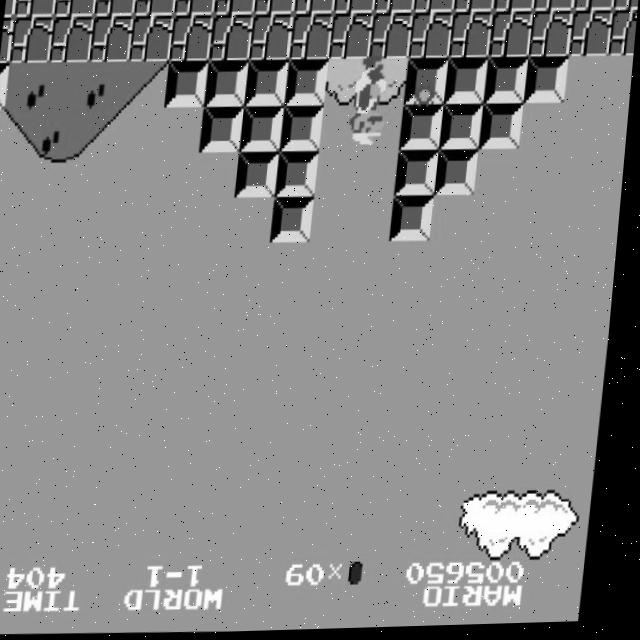17- undestructible_block: (568, 13, 614, 61), (249, 14, 295, 62), (209, 15, 255, 63), (169, 15, 215, 63), (129, 15, 175, 63), (89, 15, 135, 63), (49, 15, 95, 63), (529, 13, 574, 61), (489, 13, 534, 61), (449, 13, 494, 61), (409, 13, 454, 61), (369, 14, 414, 62), (329, 14, 374, 62), (289, 14, 334, 62), (10, 16, 55, 64), (609, 12, 638, 60), (94, 0, 136, 18), (54, 0, 96, 18), (14, 0, 56, 18), (213, 0, 256, 17), (174, 0, 216, 17), (134, 0, 176, 17), (0, 17, 15, 63), (413, 0, 456, 16), (373, 0, 416, 16), (333, 0, 376, 16), (293, 0, 336, 16), (253, 0, 296, 16), (573, 0, 616, 15), (533, 0, 576, 15), (493, 0, 536, 15), (453, 0, 496, 15), (613, 0, 640, 15), (4, 0, 16, 17)
4- fire_mario: (346, 57, 397, 153)
9- hard_block: (525, 59, 570, 107), (481, 105, 526, 153), (485, 59, 530, 107), (445, 59, 490, 107), (393, 196, 438, 244), (401, 105, 446, 153), (405, 59, 450, 107), (273, 197, 318, 245), (281, 106, 326, 154), (285, 60, 330, 108), (241, 106, 286, 154), (245, 60, 290, 108), (201, 106, 246, 154), (205, 61, 250, 109), (165, 61, 210, 109), (437, 151, 482, 198), (441, 105, 486, 152), (397, 151, 442, 198), (277, 152, 322, 199), (237, 152, 282, 199), (0, 63, 11, 109)
